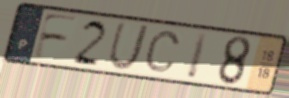2: (69, 19, 110, 68)
8: (217, 34, 253, 87)
C: (142, 29, 183, 73)
F: (30, 11, 81, 62)
I: (184, 30, 211, 81)
U: (106, 21, 152, 72)
